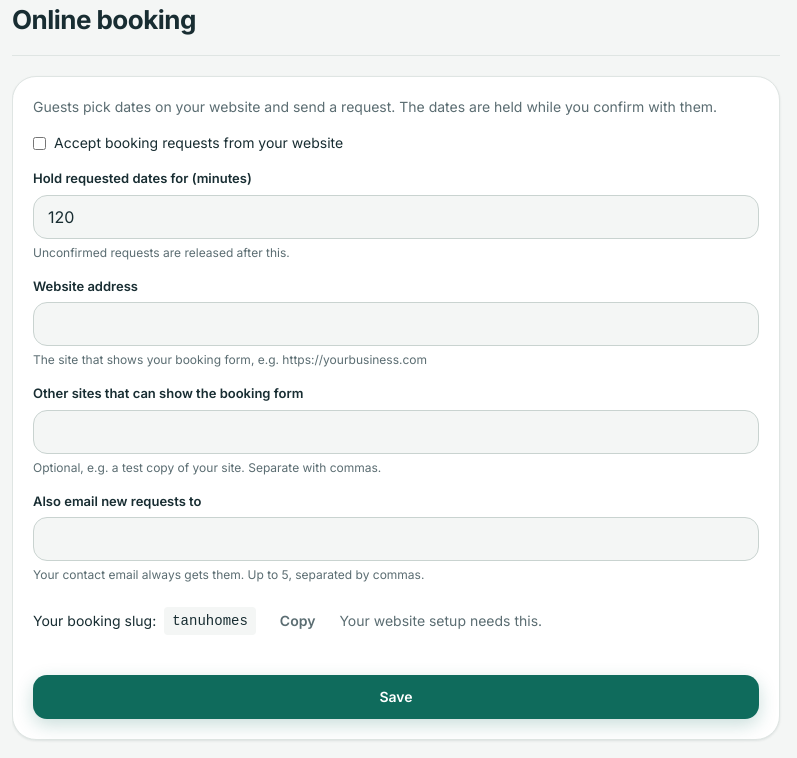
it: OnlineBooking › rejects a bad address or email without saving
The width and height of the screenshot is (797, 758).
Type "http://tanuhomes.com" into the field labelled "Website address" at (396, 324), box [33,302,759,346]
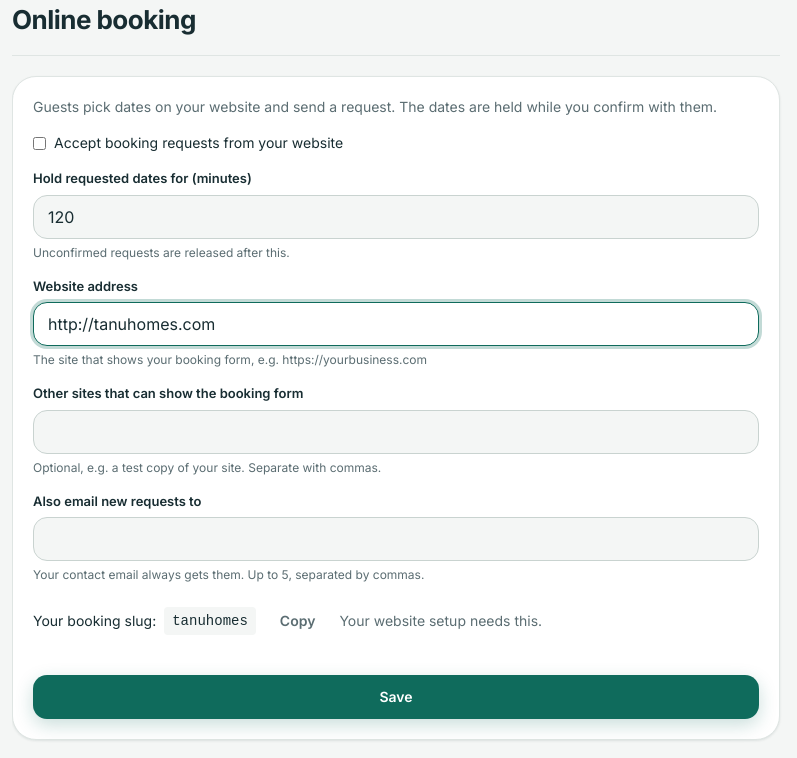
Type "desk@, ok@x.ng" into the field labelled "Also email new requests to" at (396, 539), box [33,517,759,561]
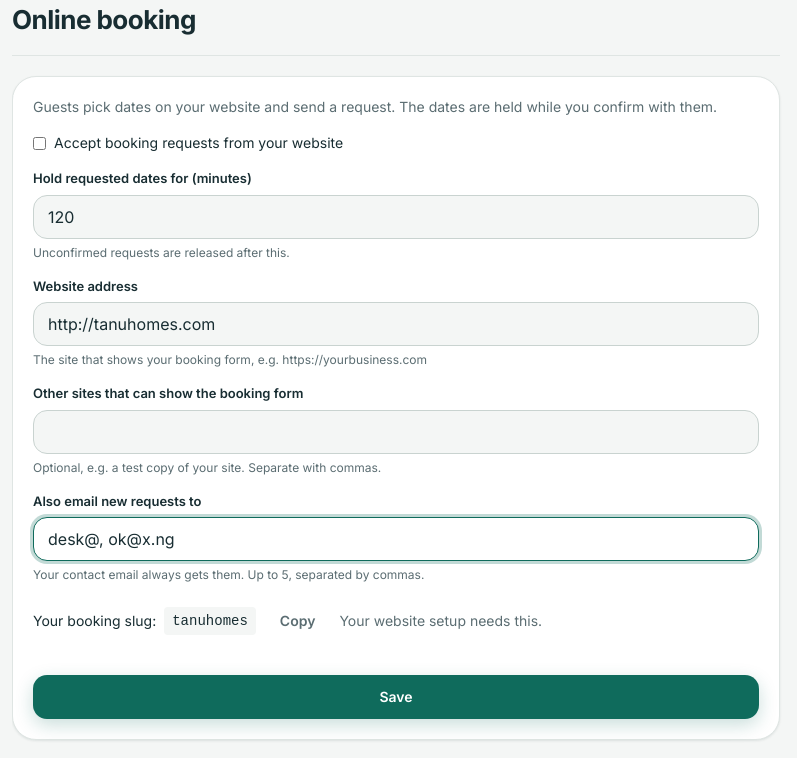
Click the button "Save" at (396, 697), box [33,675,759,719]
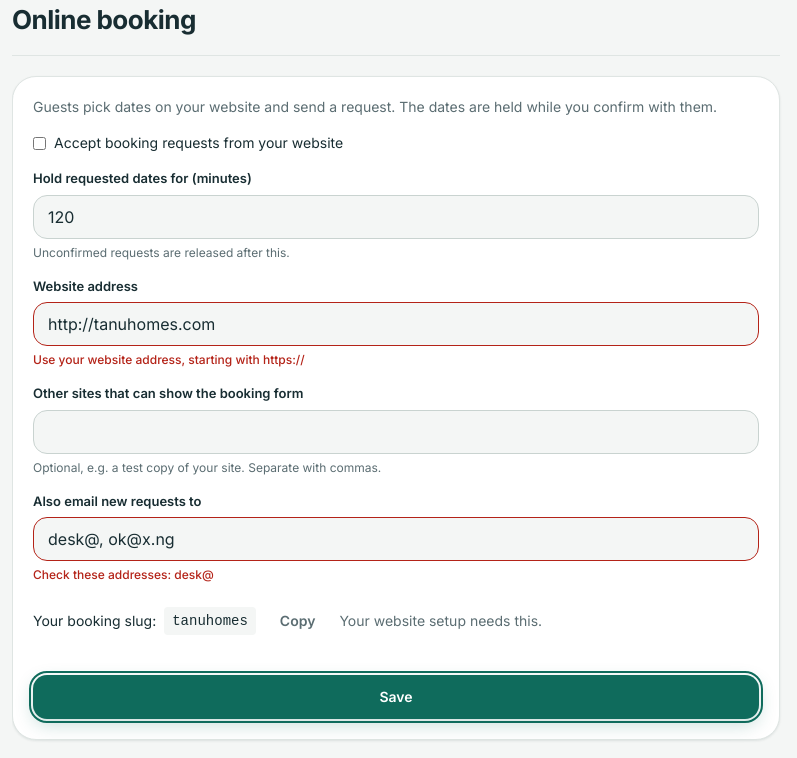
Check: the text "Use your website address, starting with https://" is shown, box [33,352,305,367]
Check: the text "Check these addresses: desk@" is shown, box [33,567,214,582]
